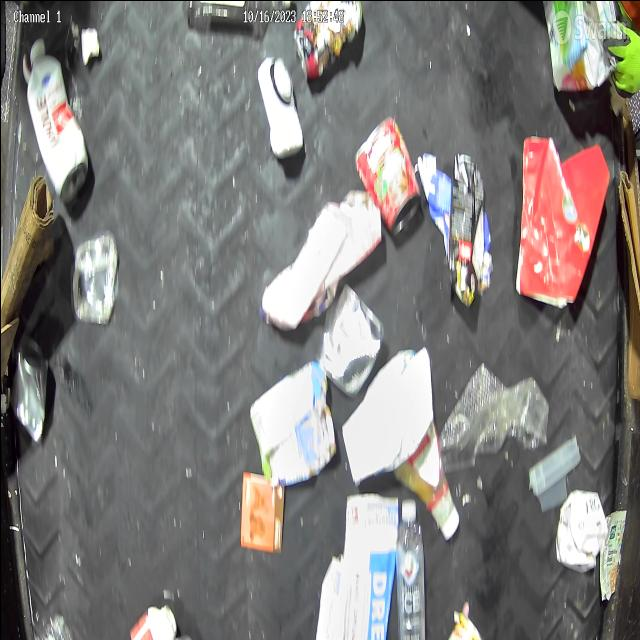can: (352, 116, 422, 232), (316, 282, 384, 398), (291, 0, 361, 81), (10, 334, 48, 442)
milk_jug: (248, 359, 336, 485), (554, 488, 606, 572)
non_white_jug: (514, 133, 610, 310)
plastic_bottle: (395, 498, 426, 640)
